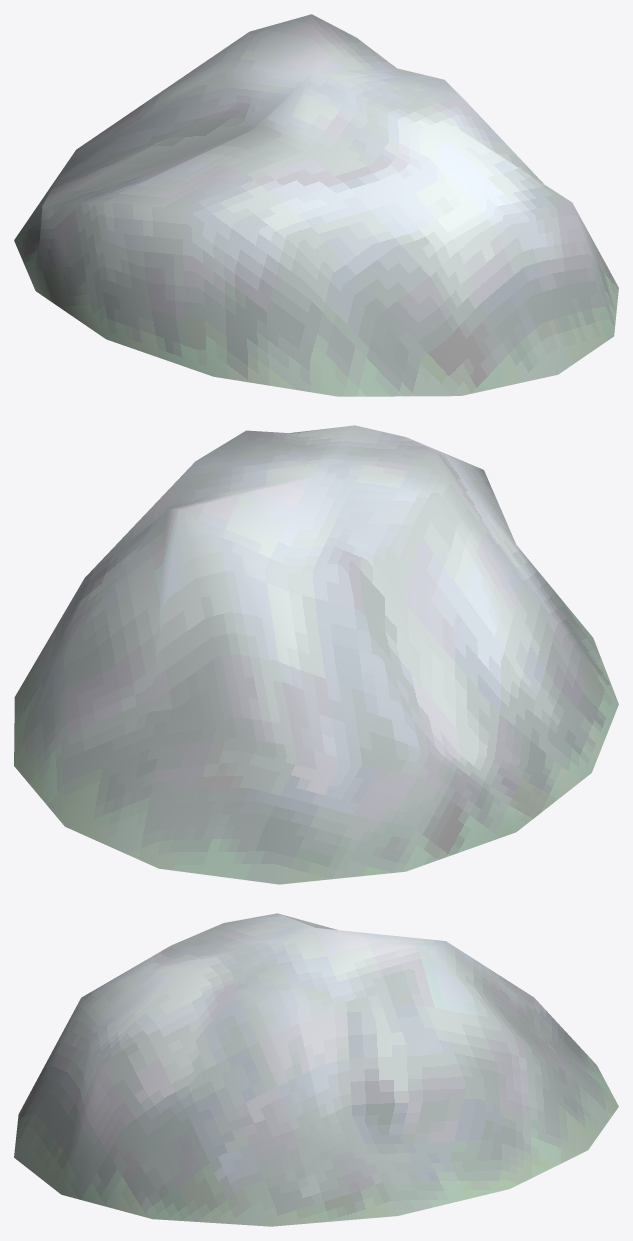
Rendered from TROLLHOLE02_STONEA05.fbx.
3 views of the same model, one above another, from view 1: azimuth 30°, elevation 25°; view 2: azimuth 150°, elevation 25°; view 3: azimuth 270°, elevation 25° (orthographic). The views are drawn at different scales.
Visible parts, largest first — view 1: TROLLHOLE02_STONEA05; view 2: TROLLHOLE02_STONEA05; view 3: TROLLHOLE02_STONEA05.
Boxes of the visible parts, x1,y1,x2,y2 form: TROLLHOLE02_STONEA05: (14, 14, 618, 396); TROLLHOLE02_STONEA05: (14, 425, 618, 884); TROLLHOLE02_STONEA05: (14, 913, 618, 1226).
Bounding box in the file's own units: 14001 × 6023 × 17129.
1 material, 1 textured.
